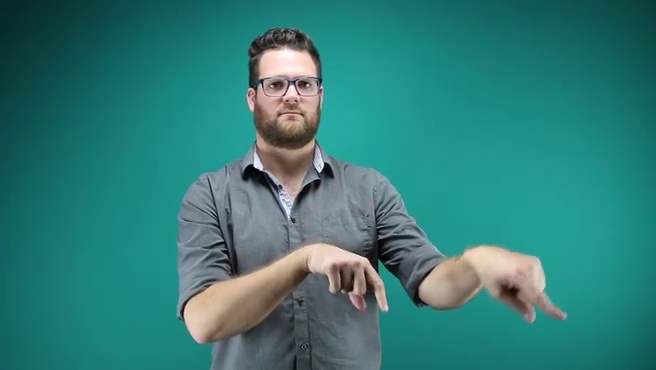go: (300, 237, 569, 328)
